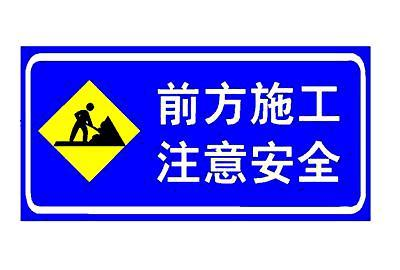sign: (25, 50, 366, 215)
